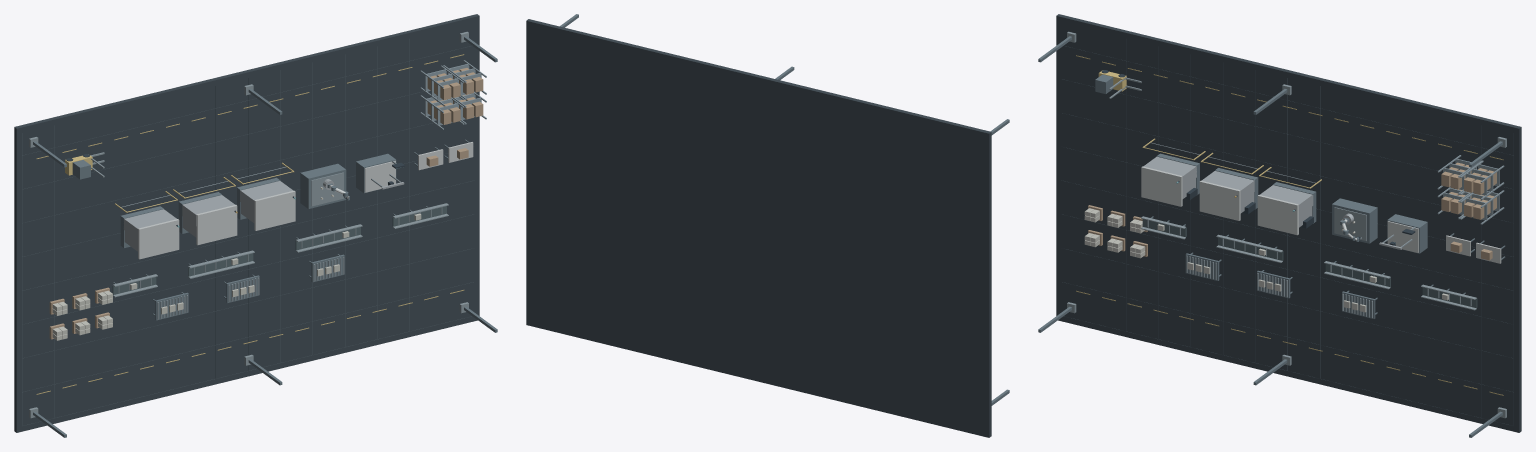
File: factory.glb
3 renders of one model, left to right at view 1: azimuth 30°, elevation 25°; view 2: azimuth 150°, elevation 25°; view 3: azimuth 330°, elevation 25°, orthographic.
Parts seen in each view (by area): view 1: structural concrete slab, CNC-102 machining center roof, CNC-103 machining center roof, CNC-101 machining center roof, assembly fixture, fixture surface, QC table top, CNC-102 machining center rear enclosure, CNC-103 machining center rear enclosure, CNC-101 machining center rear enclosure, QC inspection table, machined parts transfer moving belt (+4 smaller); view 2: structural concrete slab; view 3: structural concrete slab, CNC-101 machining center roof, CNC-103 machining center roof, CNC-102 machining center roof, assembly fixture, CNC-101 machining center rear enclosure, CNC-103 machining center rear enclosure, fixture surface, CNC-102 machining center rear enclosure, QC table top, QC inspection table, WIP-01 roller track (+4 smaller).
Part boxes in pixels (<box>): structural concrete slab: <box>14,14,479,432</box>; CNC-102 machining center roof: <box>196,205,237,245</box>; CNC-103 machining center roof: <box>254,190,295,230</box>; CNC-101 machining center roof: <box>138,219,179,259</box>; assembly fixture: <box>300,163,346,208</box>; fixture surface: <box>311,172,343,206</box>; QC table top: <box>364,160,395,192</box>; CNC-102 machining center rear enclosure: <box>182,195,235,225</box>; CNC-103 machining center rear enclosure: <box>240,181,292,211</box>; CNC-101 machining center rear enclosure: <box>123,209,176,239</box>; QC inspection table: <box>356,153,396,193</box>; machined parts transfer moving belt: <box>188,253,253,276</box>; structural concrete slab: <box>526,19,991,437</box>; structural concrete slab: <box>1056,14,1521,432</box>; CNC-101 machining center roof: <box>1141,166,1182,206</box>; CNC-103 machining center roof: <box>1257,195,1298,235</box>; CNC-102 machining center roof: <box>1199,180,1240,220</box>; assembly fixture: <box>1332,198,1377,243</box>; CNC-101 machining center rear enclosure: <box>1143,156,1196,187</box>; CNC-103 machining center rear enclosure: <box>1260,185,1313,215</box>; fixture surface: <box>1334,207,1366,241</box>; CNC-102 machining center rear enclosure: <box>1202,171,1254,201</box>; QC table top: <box>1387,221,1418,252</box>; QC inspection table: <box>1387,214,1427,253</box>; WIP-01 roller track: <box>1185,253,1219,280</box>.
Size of the model in its own units: 43 by 27 by 5.7.
